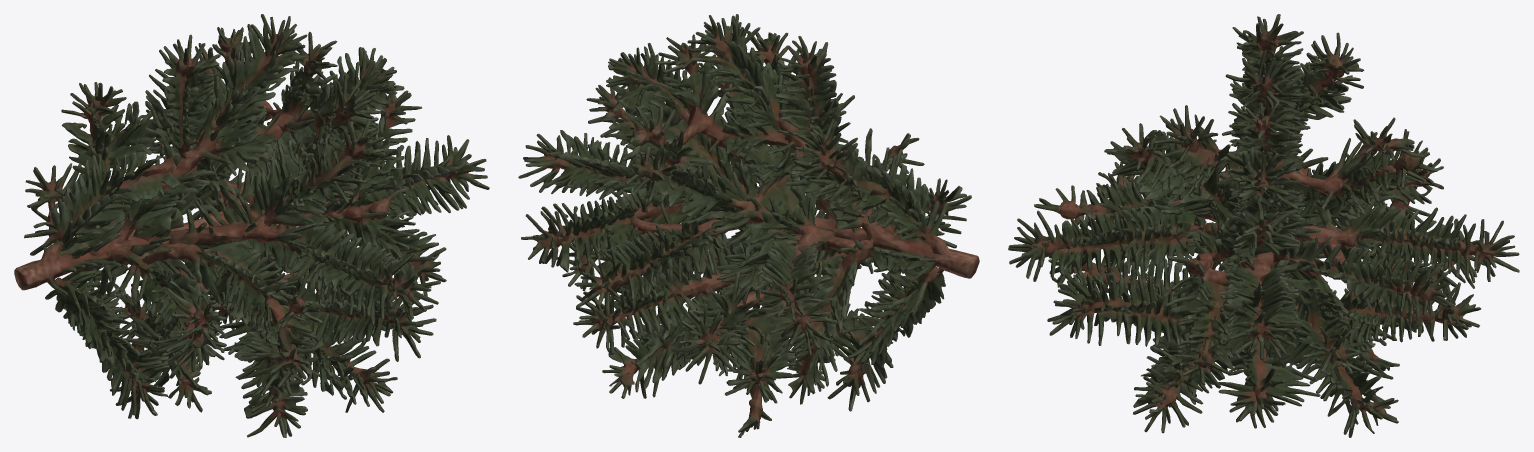
The model's file is spruce-branch-cluster-v21-lod.glb.
3 renders of one model, left to right at view 1: azimuth 30°, elevation 25°; view 2: azimuth 150°, elevation 25°; view 3: azimuth 270°, elevation 25°, orthographic. The views are drawn at different scales.
Visible parts, largest first — view 1: geometry_0; view 2: geometry_0; view 3: geometry_0.
Boxes of the visible parts, x1,y1,x2,y2 form: geometry_0: (14,14,489,437); geometry_0: (518,14,979,437); geometry_0: (1008,14,1519,437).
Bounding box in the file's own units: 0.4499 × 0.348 × 0.4383.
1 material, 1 textured.
